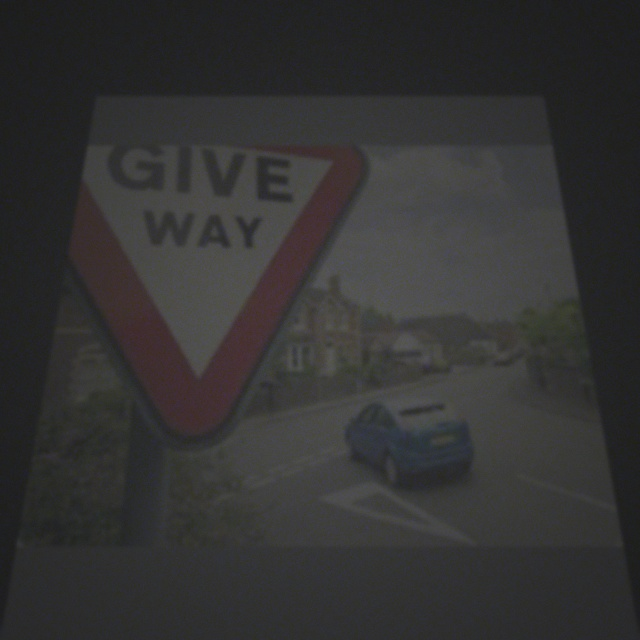Give_Way: (50, 145, 354, 390)
